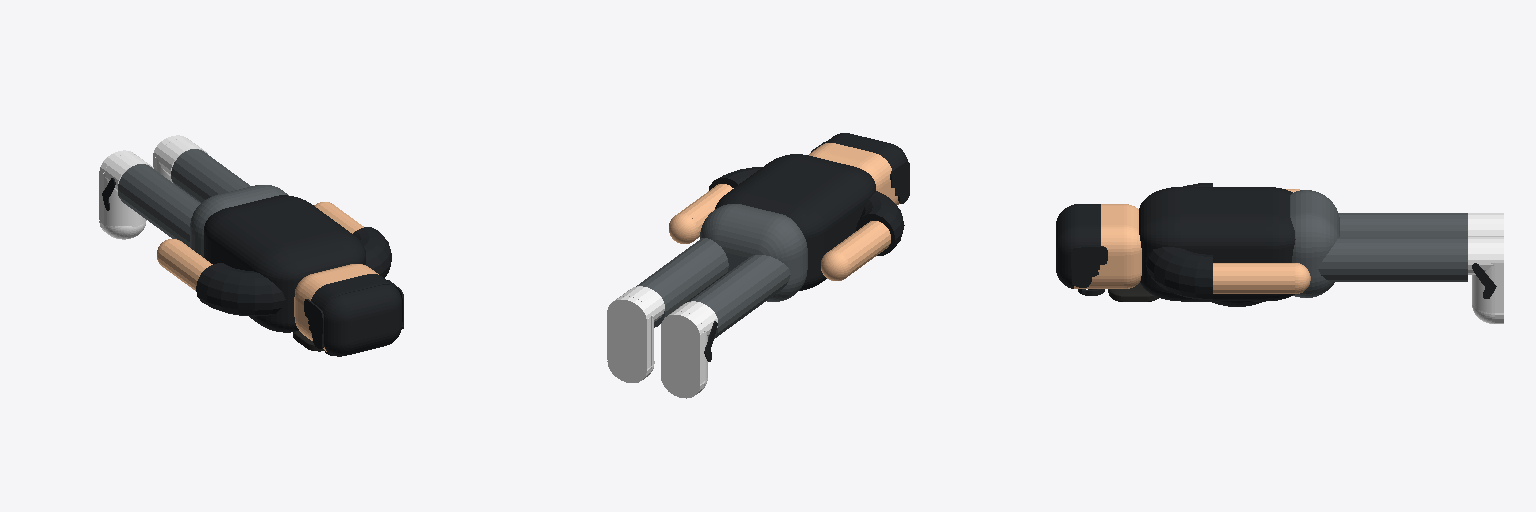
Rendered from pat.obj.
3 renders of one model, left to right at view 1: azimuth 30°, elevation 25°; view 2: azimuth 150°, elevation 25°; view 3: azimuth 270°, elevation 25°, orthographic.
Visible parts, largest first — view 1: obj_0; view 2: obj_0; view 3: obj_0.
Boxes of the visible parts, <box> form: obj_0: <box>99,135,403,356</box>; obj_0: <box>607,133,909,398</box>; obj_0: <box>1056,183,1503,323</box>.
Bounding box in the file's own units: 47.5 × 26 × 98.48.